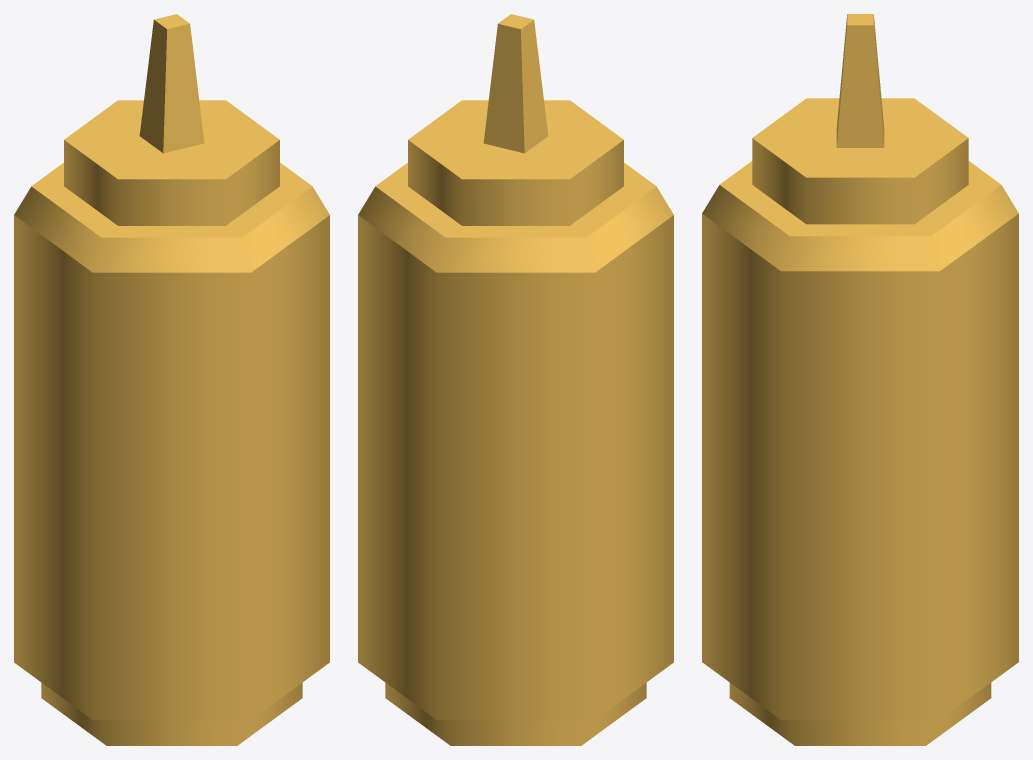
The model's file is bottleMusterd.obj.
3 renders of one model, left to right at view 1: azimuth 30°, elevation 25°; view 2: azimuth 150°, elevation 25°; view 3: azimuth 270°, elevation 25°, orthographic.
Visible parts, largest first — view 1: bottleMusterd; view 2: bottleMusterd; view 3: bottleMusterd.
Boxes of the visible parts, <box> form: bottleMusterd: <box>14,14,329,745</box>; bottleMusterd: <box>358,14,673,745</box>; bottleMusterd: <box>702,14,1018,745</box>.
Bounding box in the file's own units: 0.1441 × 0.3931 × 0.1664.
